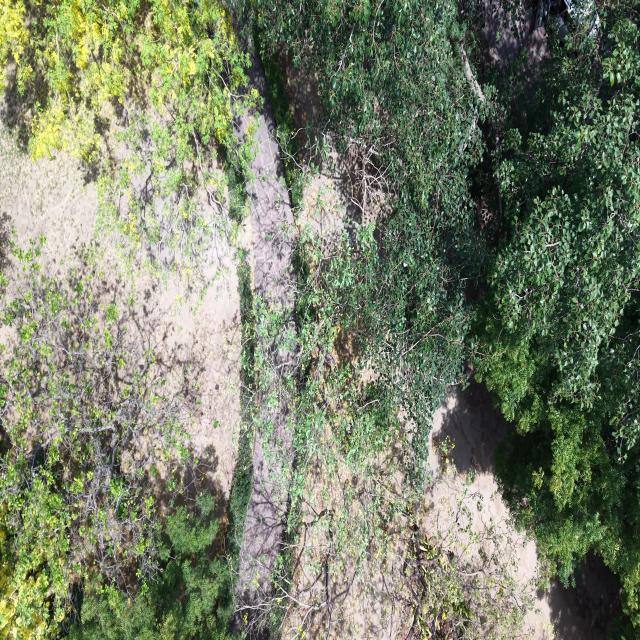DRY_AREA: (0, 124, 241, 537), (0, 126, 240, 511), (0, 128, 240, 505), (420, 383, 620, 639), (424, 380, 619, 639), (238, 53, 312, 629), (238, 54, 295, 606), (130, 249, 240, 498), (283, 431, 413, 639), (282, 423, 404, 639), (132, 261, 240, 497), (283, 452, 413, 639), (283, 454, 413, 639), (427, 382, 538, 591), (425, 383, 538, 585), (426, 382, 538, 582), (432, 382, 538, 584), (0, 127, 97, 276), (432, 383, 512, 528), (538, 554, 621, 639), (481, 0, 547, 67)
PATHWAYS: (238, 55, 294, 617)
VEGETATION_TREE: (235, 0, 639, 637), (256, 2, 639, 616), (246, 3, 521, 637), (240, 230, 530, 639), (252, 0, 488, 478), (474, 2, 639, 621), (0, 239, 237, 639), (0, 243, 237, 638), (0, 243, 201, 638), (0, 0, 257, 293), (2, 0, 245, 170), (69, 494, 234, 639), (403, 473, 532, 639)
